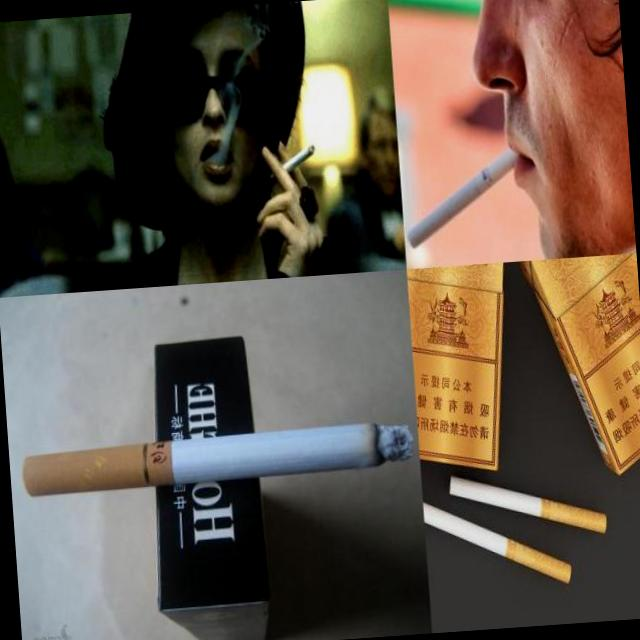smoke: (20, 416, 418, 501), (423, 488, 572, 593), (399, 140, 527, 254), (448, 465, 606, 543), (266, 142, 318, 182)
